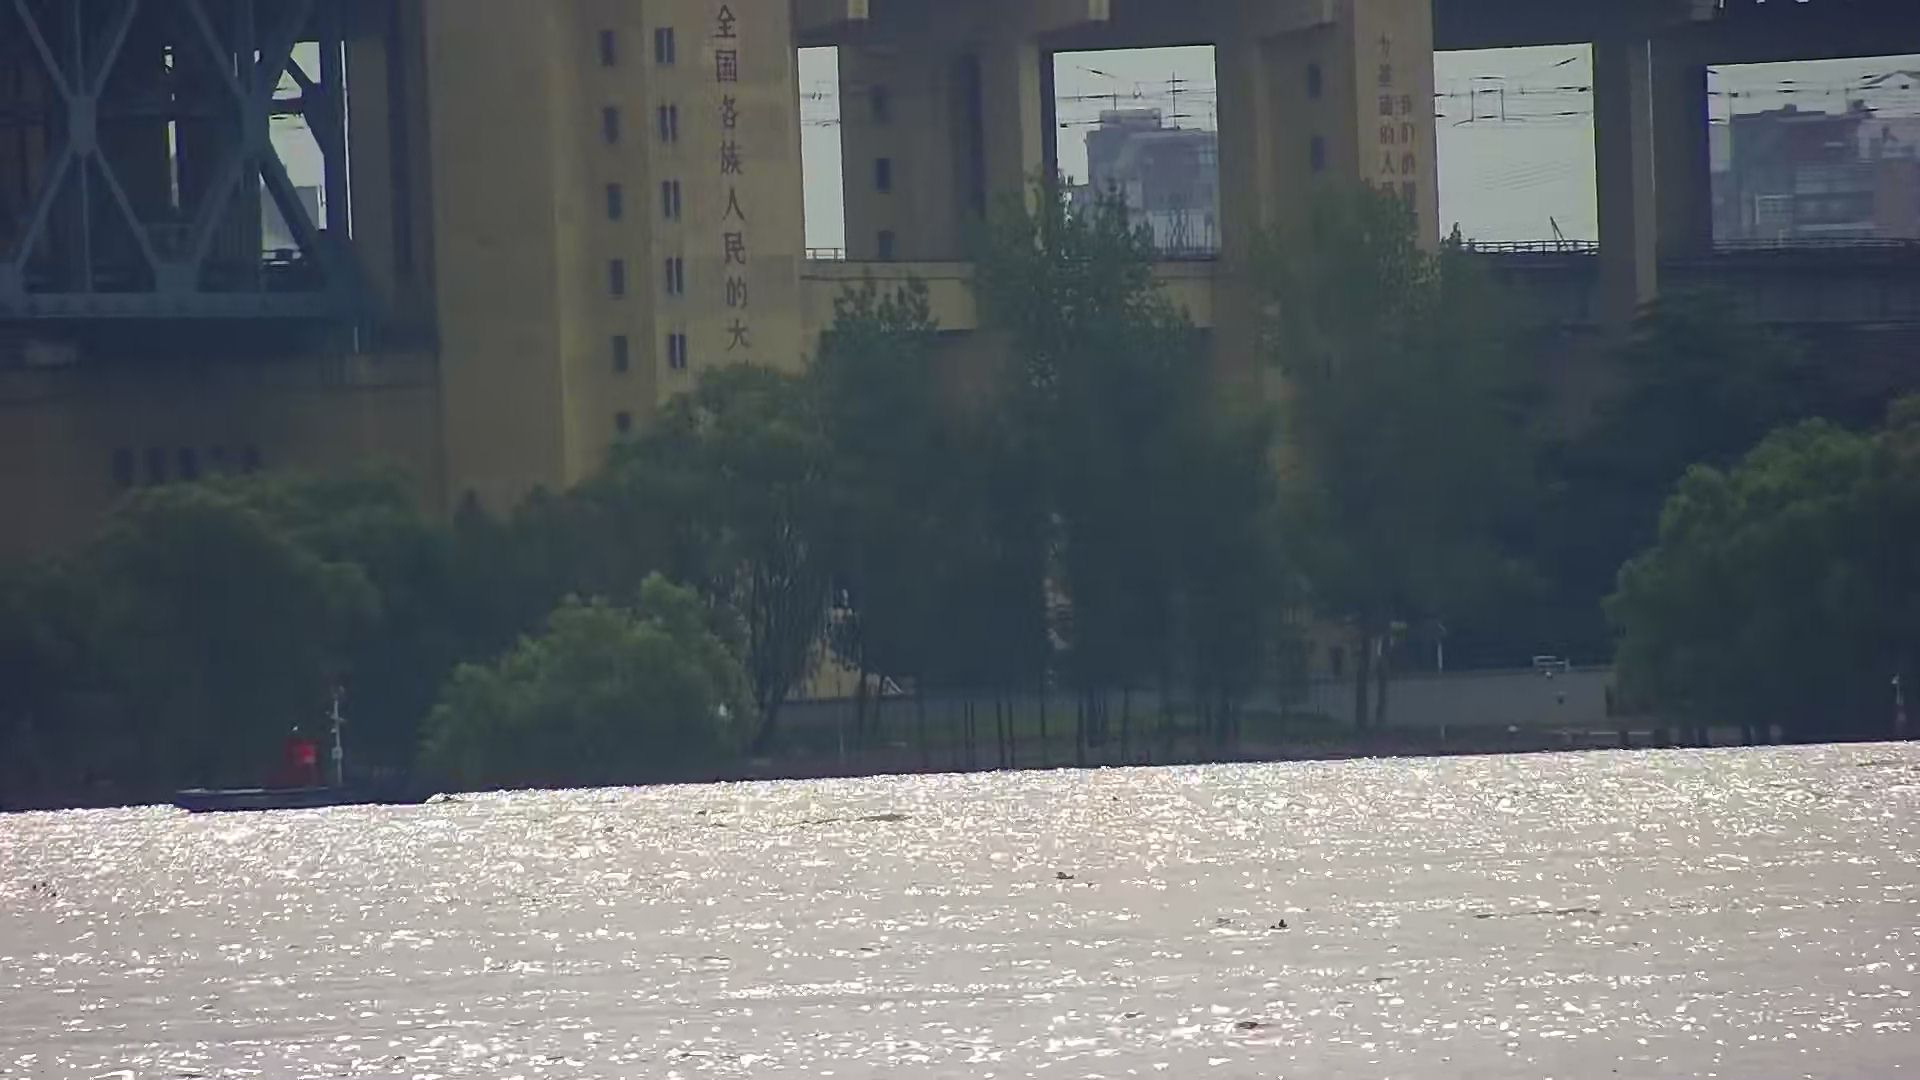boat: (167, 698, 447, 816)
